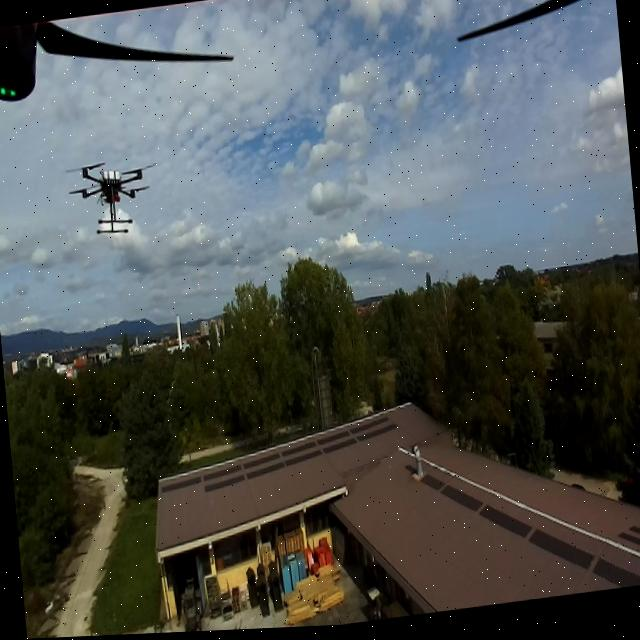drone: (66, 140, 162, 255)
